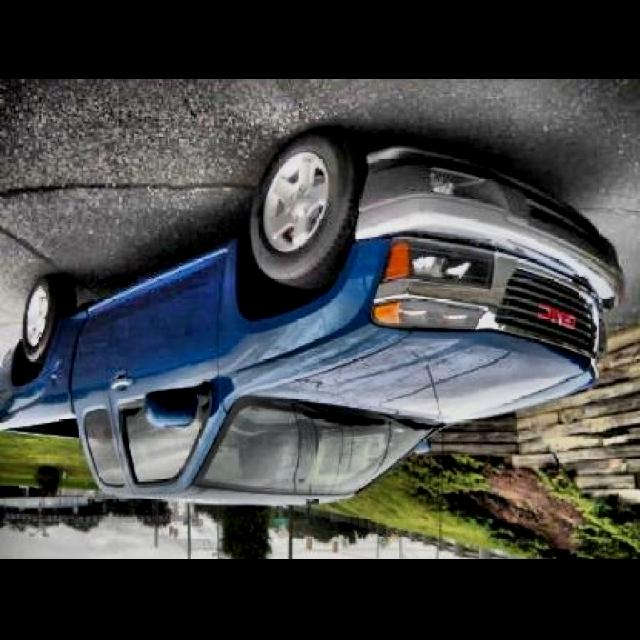blue: (0, 108, 602, 499)
